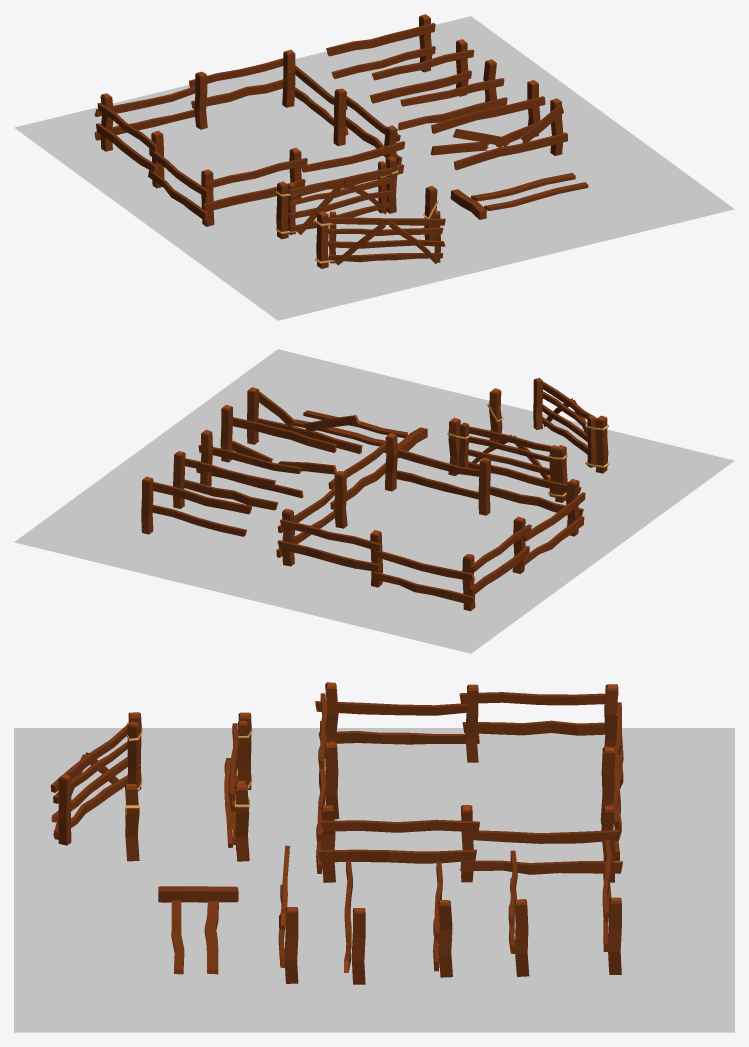
3 renders of one model, top to bottom at view 1: azimuth 30°, elevation 25°; view 2: azimuth 150°, elevation 25°; view 3: azimuth 270°, elevation 25°, orthographic. The views are drawn at different scales.
Visible parts, largest first — view 1: Ground, Fence_Gate_Open, Fence_Gate_Closed, Fence_Corner_2, Fence_Corner_4, Fence_Corner_3, Fence_Corner_1, Fence_Damage_2, Fence_3, Fence_Damage_1, Fence_2, Fence_1 (+2 smaller); view 2: Ground, Fence_Gate_Closed, Fence_Corner_3, Fence_Gate_Open, Fence_Corner_4, Fence_Corner_1, Fence_Corner_2, Fence_3, Fence_Damage_1, Fence_2, Fence_Damage_2, Fence_1 (+1 smaller); view 3: Ground, Fence_Gate_Open, Fence_Corner_1, Fence_Corner_2, Fence_Corner_3, Fence_Corner_4, Fence_Gate_Closed, Fence_Damage_2, Fence_Damage_1, Fence_3, Fence_Boards, Fence_2 (+2 smaller).
Part boxes in pixels (x1,y1,x2,y2): Ground: [14, 16, 734, 320]; Fence_Gate_Open: [315, 186, 445, 268]; Fence_Gate_Closed: [276, 156, 398, 239]; Fence_Corner_2: [189, 49, 348, 135]; Fence_Corner_4: [148, 147, 307, 226]; Fence_Corner_3: [94, 87, 195, 188]; Fence_Corner_1: [299, 88, 405, 196]; Fence_Damage_2: [453, 98, 567, 170]; Fence_3: [326, 14, 435, 78]; Fence_Damage_1: [430, 80, 545, 155]; Fence_2: [369, 39, 474, 103]; Fence_1: [398, 59, 507, 130]; Ground: [14, 349, 734, 653]; Fence_Gate_Closed: [447, 417, 568, 502]; Fence_Corner_3: [371, 516, 531, 611]; Fence_Gate_Open: [487, 378, 609, 473]; Fence_Corner_4: [478, 457, 585, 565]; Fence_Corner_1: [328, 433, 479, 528]; Fence_Corner_2: [276, 487, 382, 587]; Fence_3: [141, 476, 252, 536]; Fence_Damage_1: [220, 405, 336, 474]; Fence_2: [173, 451, 277, 510]; Fence_Damage_2: [247, 387, 362, 453]; Fence_1: [196, 429, 303, 498]; Ground: [14, 728, 734, 1032]; Fence_Gate_Open: [50, 712, 142, 861]; Fence_Corner_1: [316, 767, 479, 882]; Fence_Corner_2: [460, 747, 622, 882]; Fence_Corner_3: [459, 684, 623, 789]; Fence_Corner_4: [315, 682, 479, 819]; Fence_Gate_Closed: [224, 712, 252, 861]; Fence_Damage_2: [278, 845, 298, 983]; Fence_Damage_1: [344, 860, 365, 984]; Fence_3: [602, 840, 621, 974]; Fence_Boards: [171, 899, 218, 974]; Fence_2: [508, 850, 529, 976].
Size of the model in its own units: 2.1 by 0.2384 by 2.1.
Materials: 2 (1 with a texture image).
